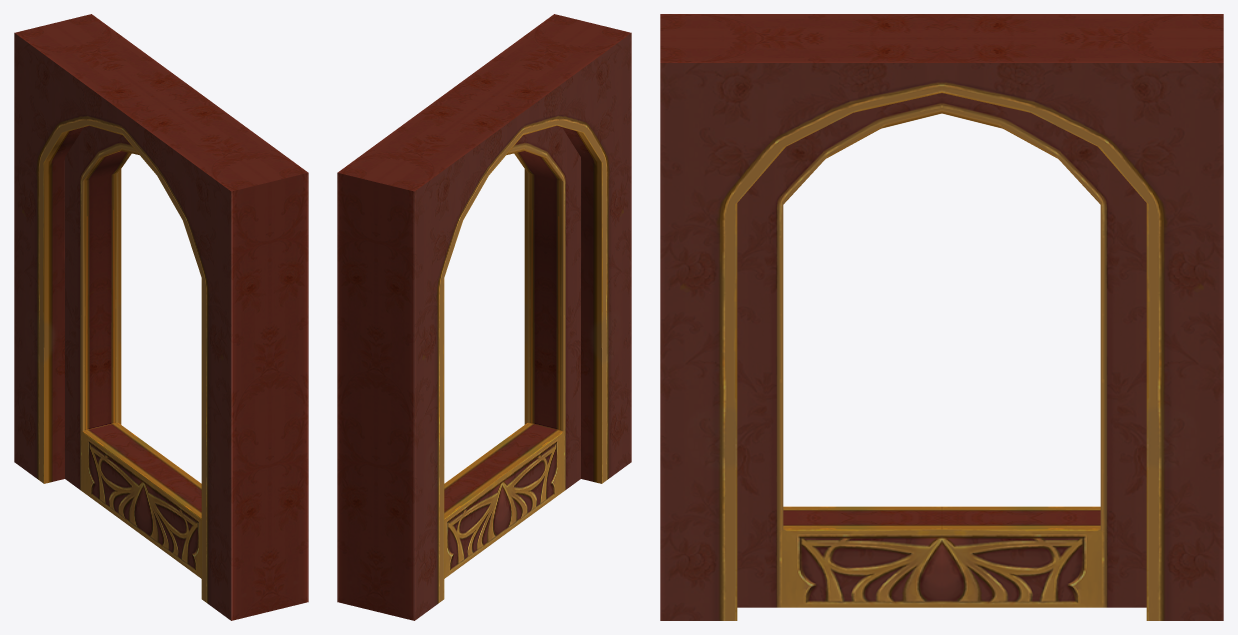
The model's file is Battle03_Wall_01.FBX.
3 renders of one model, left to right at view 1: azimuth 30°, elevation 25°; view 2: azimuth 150°, elevation 25°; view 3: azimuth 270°, elevation 25°, orthographic. The views are drawn at different scales.
Parts seen in each view (by area): view 1: Battle03_Wall_01; view 2: Battle03_Wall_01; view 3: Battle03_Wall_01.
Part boxes in pixels (<box>): Battle03_Wall_01: <box>14,14,308,620</box>; Battle03_Wall_01: <box>337,14,631,620</box>; Battle03_Wall_01: <box>660,14,1223,620</box>.
Bounding box in the file's own units: 2.46 × 13.1 × 11.99.
